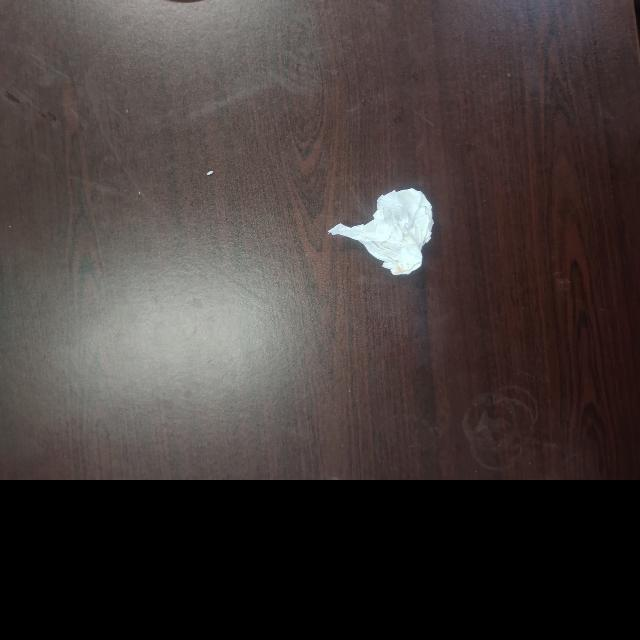kitchen paper: (325, 184, 437, 280)
